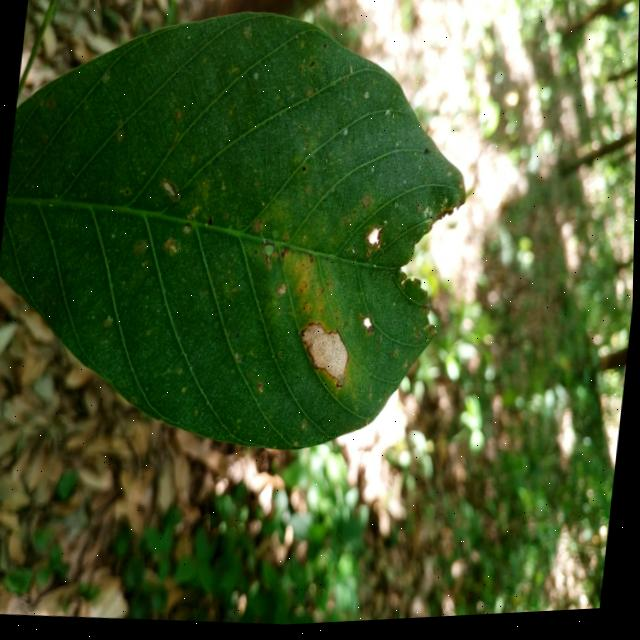Colletotrichum: (301, 169, 306, 175), (299, 291, 302, 296), (310, 260, 313, 263), (311, 262, 313, 266), (320, 312, 322, 315)
Leaf-Blight: (294, 322, 353, 393)
